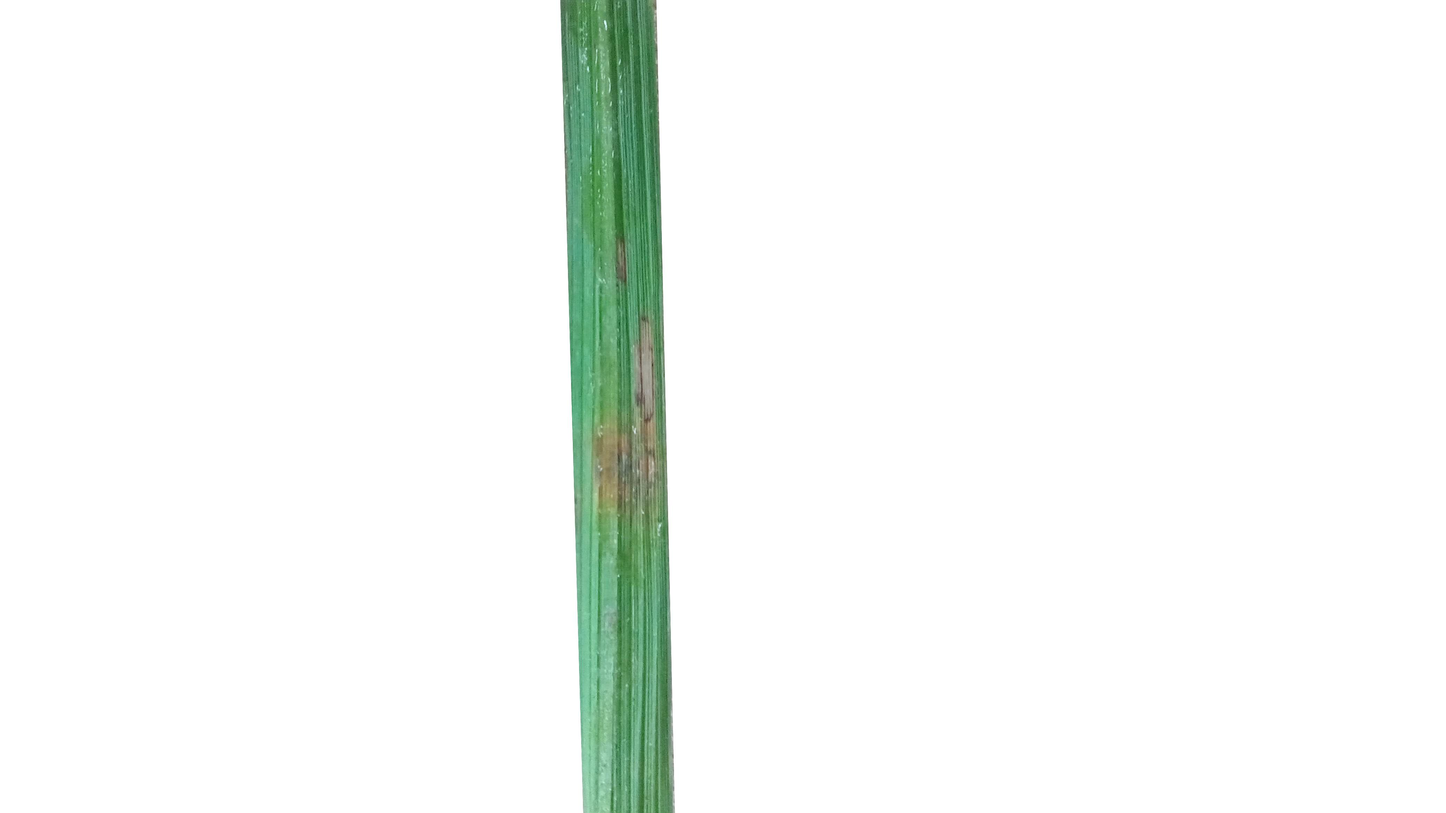Rice blast: (592, 306, 655, 559), (612, 230, 630, 293)
